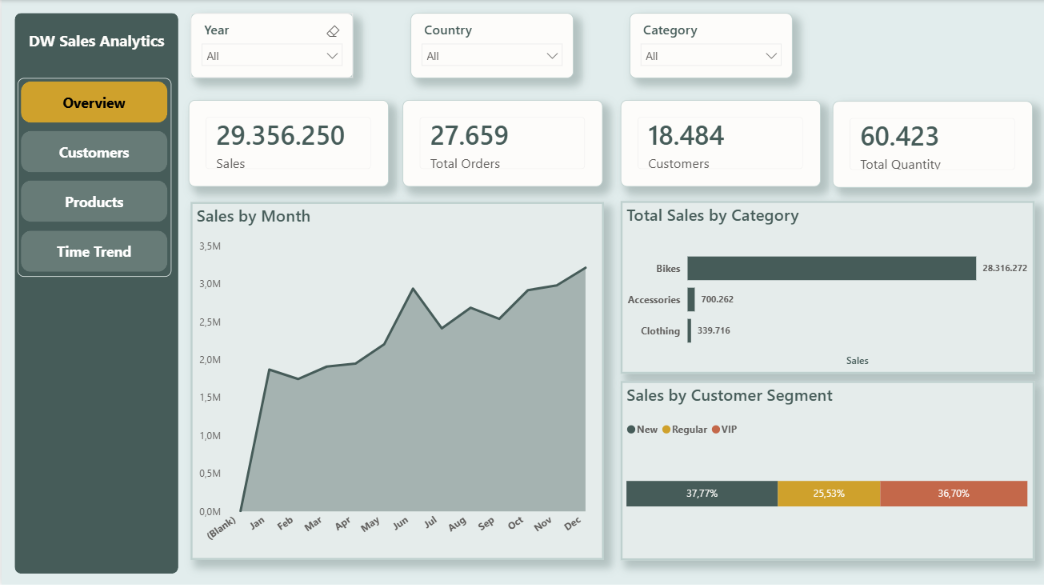

This screenshot's page, from the dashboard's own definition file:
{"tool":"powerbi","page":{"name":"Overview","canvas":[1280,720],"ordinal":0},"visuals":[{"type":"shape","box":[16,16,201,688],"z":0},{"type":"textbox","box":[28.2,31.9,180.4,51.5],"z":1000},{"type":"slicer","fields":{"Values":["Calendar.Year"]},"box":[232,16,200,80],"z":2000},{"type":"slicer","fields":{"Values":["dim_customers.country"]},"box":[501.8,16,200,80],"z":3000},{"type":"slicer","fields":{"Values":["dim_products.category"]},"box":[770,16,200,80],"z":4000},{"type":"cardVisual","fields":{"Data":["_01Measures_Overview.Total Sales"]},"box":[229.4,122.7,245.4,106.7],"z":5000},{"type":"cardVisual","fields":{"Data":["_01Measures_Overview.Total Orders"]},"box":[492,122.7,245.4,106.7],"z":6000},{"type":"cardVisual","fields":{"Data":["_01Measures_Overview.Total Customers"]},"box":[759.5,122.7,245.4,106.7],"z":7000},{"type":"cardVisual","fields":{"Data":["_01Measures_Overview.Total Quantity"]},"box":[1019.6,123.9,245.4,106.7],"z":8000},{"type":"areaChart","fields":{"Y":["_01Measures_Overview.Total Sales"],"Category":["Calendar.Month"]},"box":[231.9,247.9,507.5,439.3],"z":9000},{"type":"clusteredBarChart","title":"Total Sales by Category","fields":{"Y":["_01Measures_Overview.Total Sales"],"Category":["dim_products.category"]},"box":[759.5,246.6,508,212.3],"z":10000},{"type":"hundredPercentStackedBarChart","fields":{"Y":["_01Measures_Overview.Total Sales"],"Series":["dim_customers.Customer Segment"]},"box":[759.5,467.5,508,219.6],"z":11000},{"type":"pageNavigator","box":[19.6,95.7,189,244.2],"z":12000}]}

Visuals, with their boxes in screenshot pixels (x1, y1, x2, y2), scaled from the page's 1280x720 canvas onto the 1044x585 screenshot:
shape: (x1=13, y1=13, x2=177, y2=572)
textbox: (x1=23, y1=26, x2=170, y2=68)
slicer - Calendar.Year: (x1=189, y1=13, x2=352, y2=78)
slicer - dim_customers.country: (x1=409, y1=13, x2=572, y2=78)
slicer - dim_products.category: (x1=628, y1=13, x2=791, y2=78)
cardVisual - _01Measures_Overview.Total Sales: (x1=187, y1=100, x2=387, y2=186)
cardVisual - _01Measures_Overview.Total Orders: (x1=401, y1=100, x2=601, y2=186)
cardVisual - _01Measures_Overview.Total Customers: (x1=619, y1=100, x2=820, y2=186)
cardVisual - _01Measures_Overview.Total Quantity: (x1=832, y1=101, x2=1032, y2=187)
areaChart - _01Measures_Overview.Total Sales x Calendar.Month: (x1=189, y1=201, x2=603, y2=558)
"Total Sales by Category" clusteredBarChart: (x1=619, y1=200, x2=1034, y2=373)
hundredPercentStackedBarChart - _01Measures_Overview.Total Sales x dim_customers.Customer Segment: (x1=619, y1=380, x2=1034, y2=558)
pageNavigator: (x1=16, y1=78, x2=170, y2=276)
